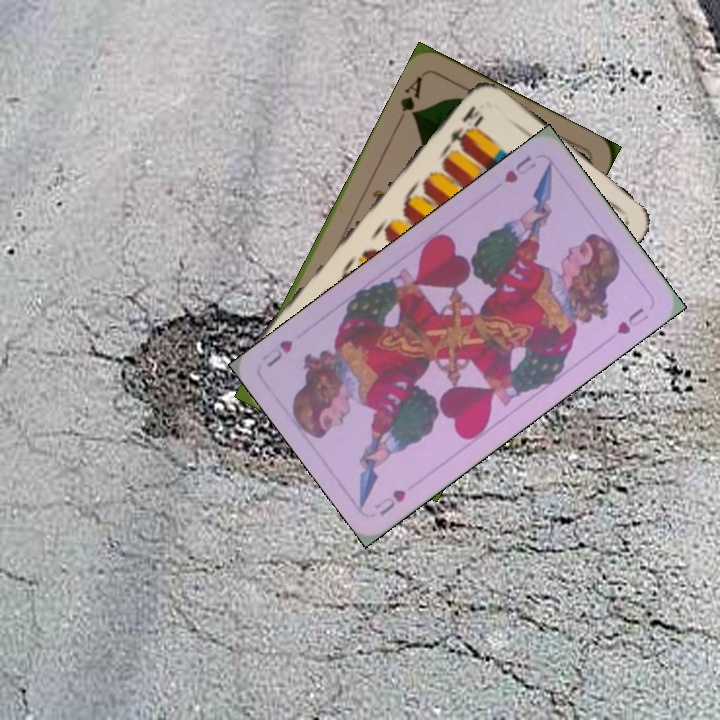E10: (443, 101, 487, 155)
GA: (396, 72, 425, 121)
HU: (500, 152, 539, 186), (370, 485, 409, 519)
